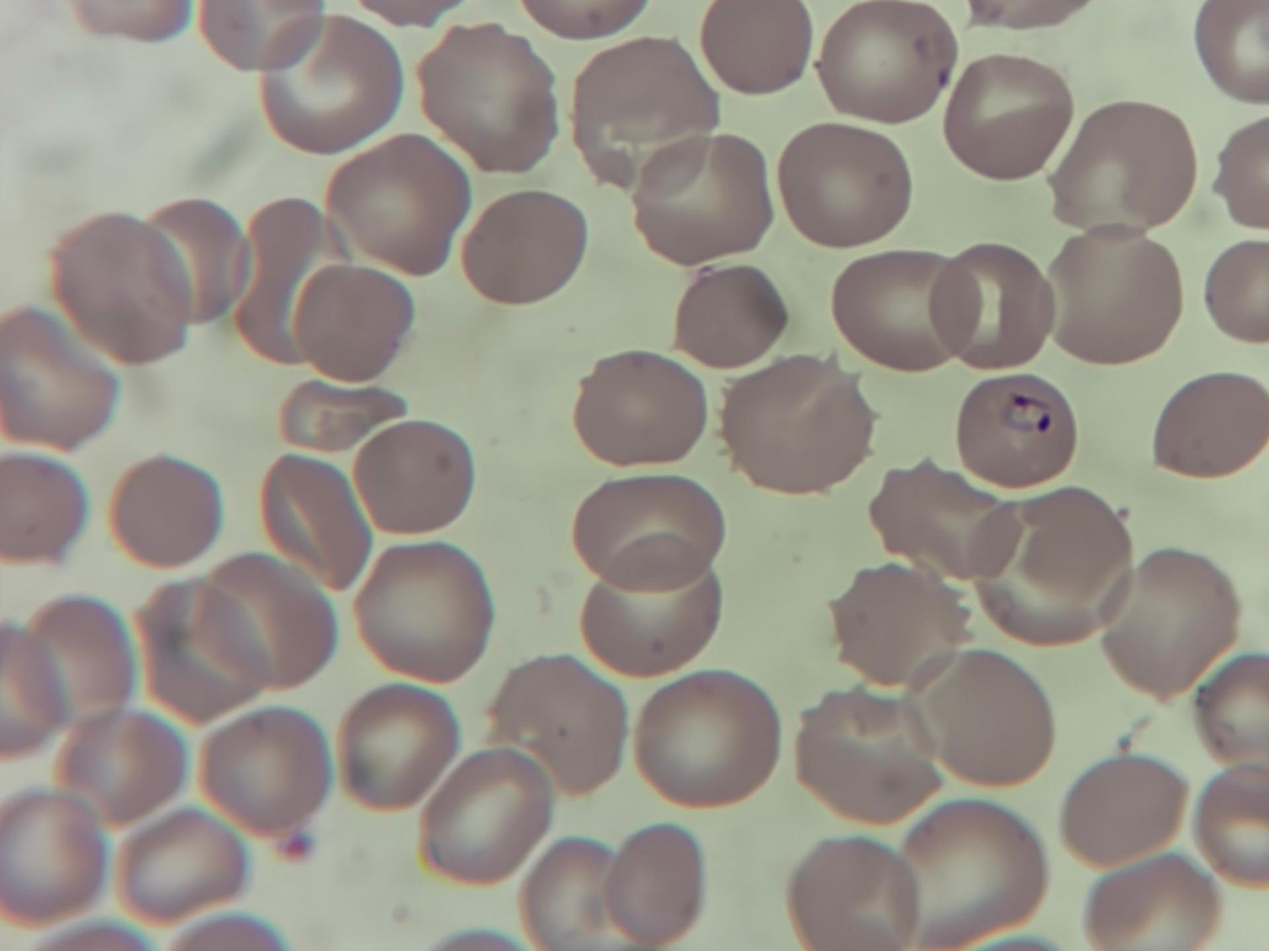Infected: (313, 827, 446, 946), (191, 460, 309, 575)
Uninfected: (392, 456, 551, 595), (709, 776, 852, 922), (553, 768, 698, 911), (88, 585, 236, 725), (135, 319, 279, 461), (223, 5, 365, 147), (29, 250, 162, 397), (1001, 226, 1130, 377), (799, 675, 939, 814), (489, 146, 633, 281), (863, 799, 1005, 935), (775, 267, 913, 406), (330, 129, 476, 258), (932, 259, 1071, 394), (642, 157, 779, 292), (496, 686, 635, 816), (72, 720, 213, 847), (715, 63, 845, 198), (301, 261, 440, 387), (544, 358, 693, 475), (220, 165, 355, 292), (299, 579, 435, 701), (254, 369, 393, 487), (356, 704, 488, 828), (194, 770, 323, 896), (943, 120, 1071, 243), (939, 589, 1036, 750), (79, 80, 209, 199), (560, 482, 692, 599), (853, 566, 976, 688), (1153, 505, 1265, 638), (808, 141, 927, 265), (898, 362, 1008, 496), (1022, 24, 1146, 140), (1083, 122, 1204, 240), (547, 272, 681, 377), (1161, 25, 1269, 155), (792, 415, 913, 530), (214, 581, 327, 704), (681, 646, 805, 757), (356, 3, 480, 112), (1136, 229, 1240, 354), (1051, 380, 1157, 495), (564, 4, 664, 123), (52, 0, 178, 94), (0, 473, 112, 578), (479, 580, 592, 684), (1019, 632, 1117, 751), (457, 861, 563, 948), (1182, 387, 1269, 493), (865, 498, 987, 568)
